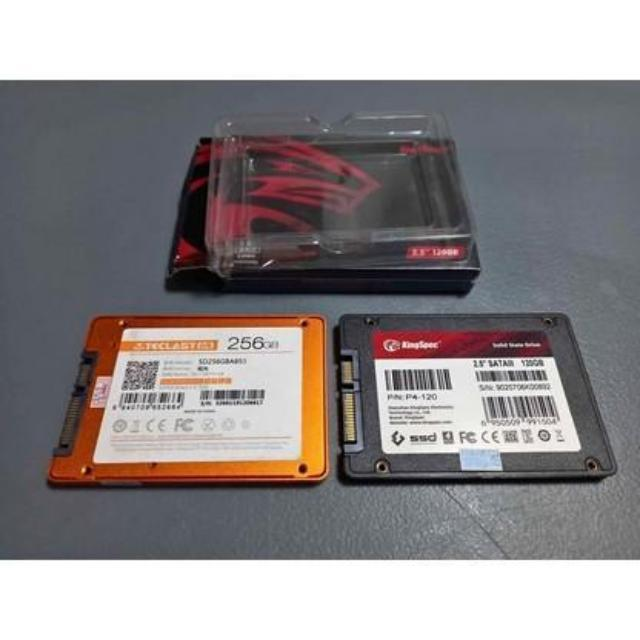DISK: (43, 304, 335, 502), (338, 300, 626, 494)
